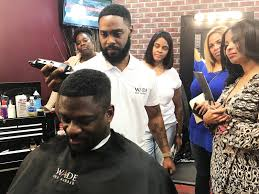black_male: (89, 1, 140, 64)
